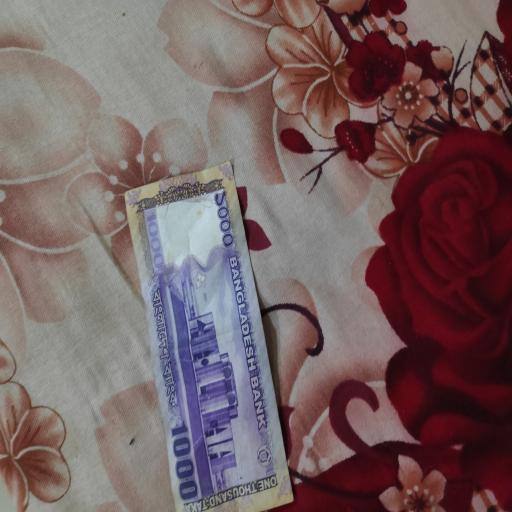1000taka: (126, 163, 294, 512)
